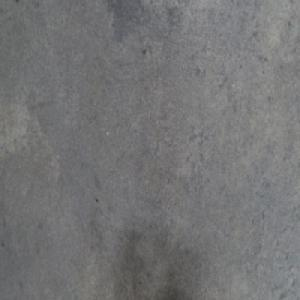AdjustableWrench: (165, 289, 197, 299)
